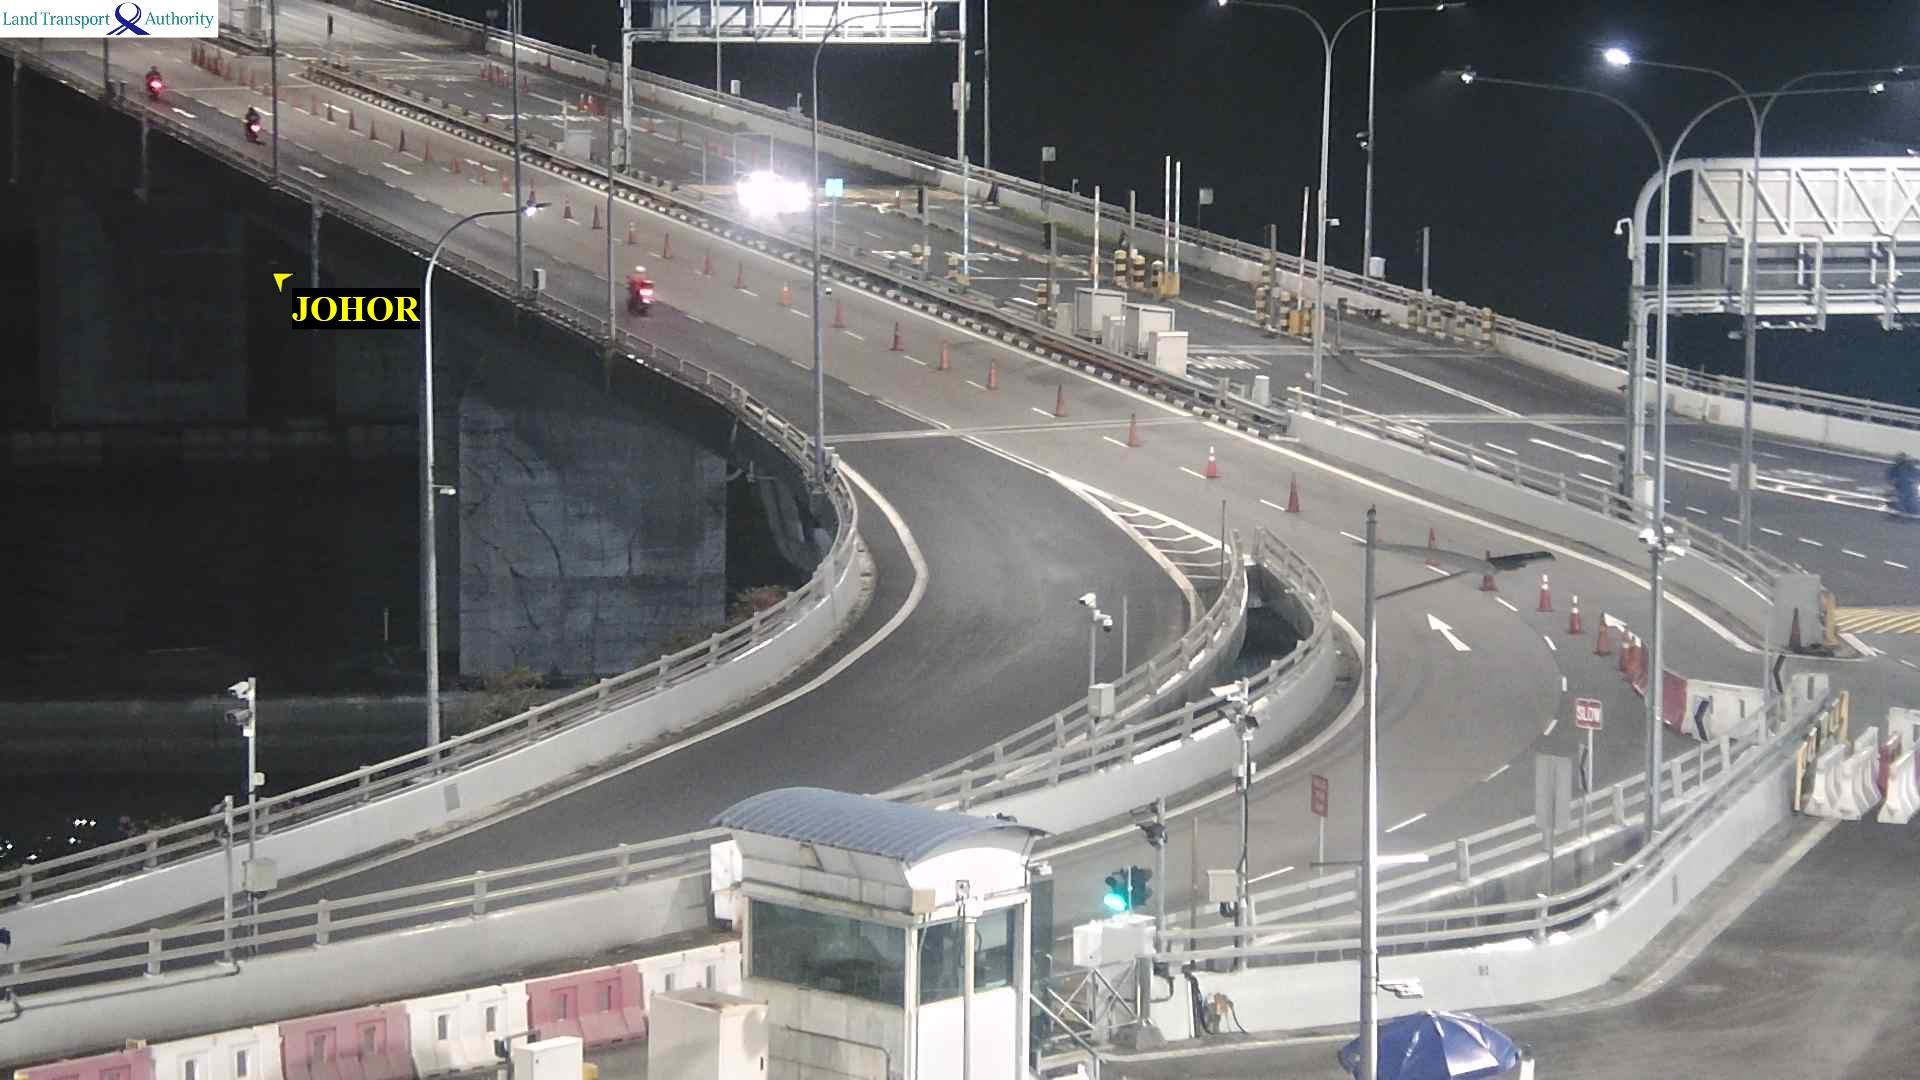vehicle-causeway-singapore: (632, 263, 655, 317), (242, 100, 270, 142), (147, 67, 166, 95)
